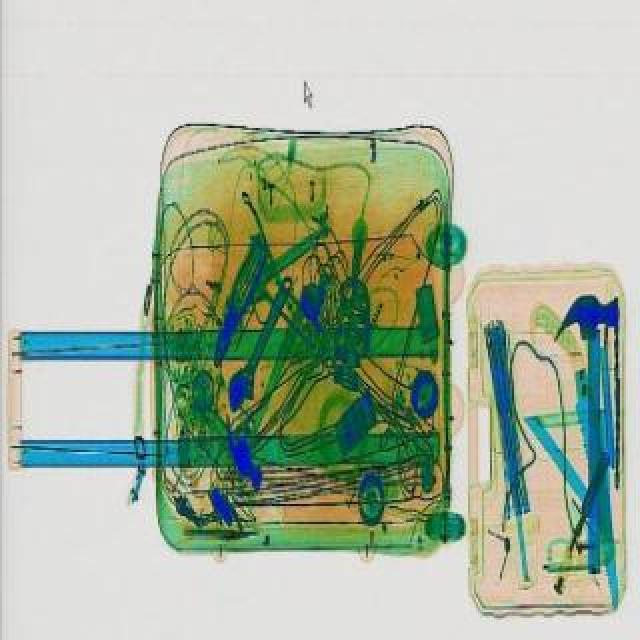scissors: (216, 266, 300, 414)
wrench: (200, 238, 272, 366)
